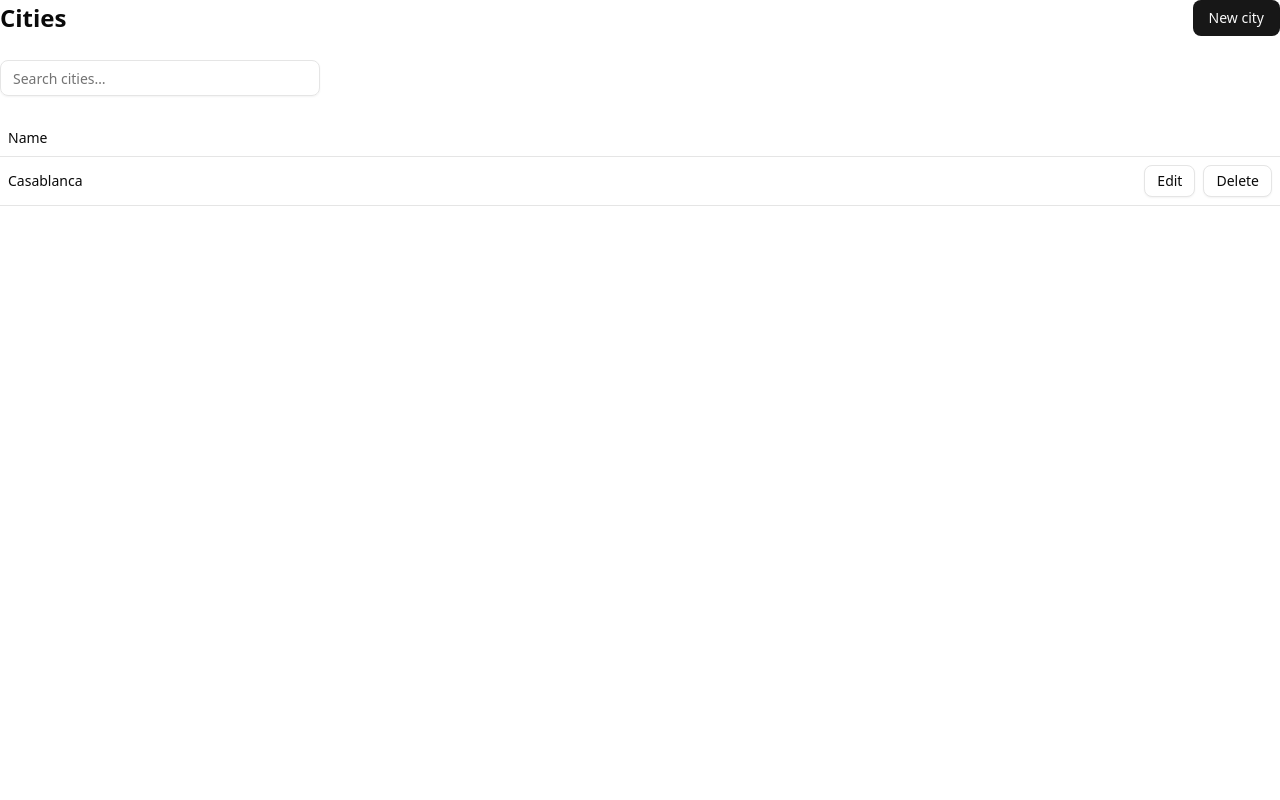
Test: create / edit / delete › seeds the edit drawer with the row being edited
Click the button with aria-label "edit casablanca": [1170, 181] box [1144,165,1196,197]
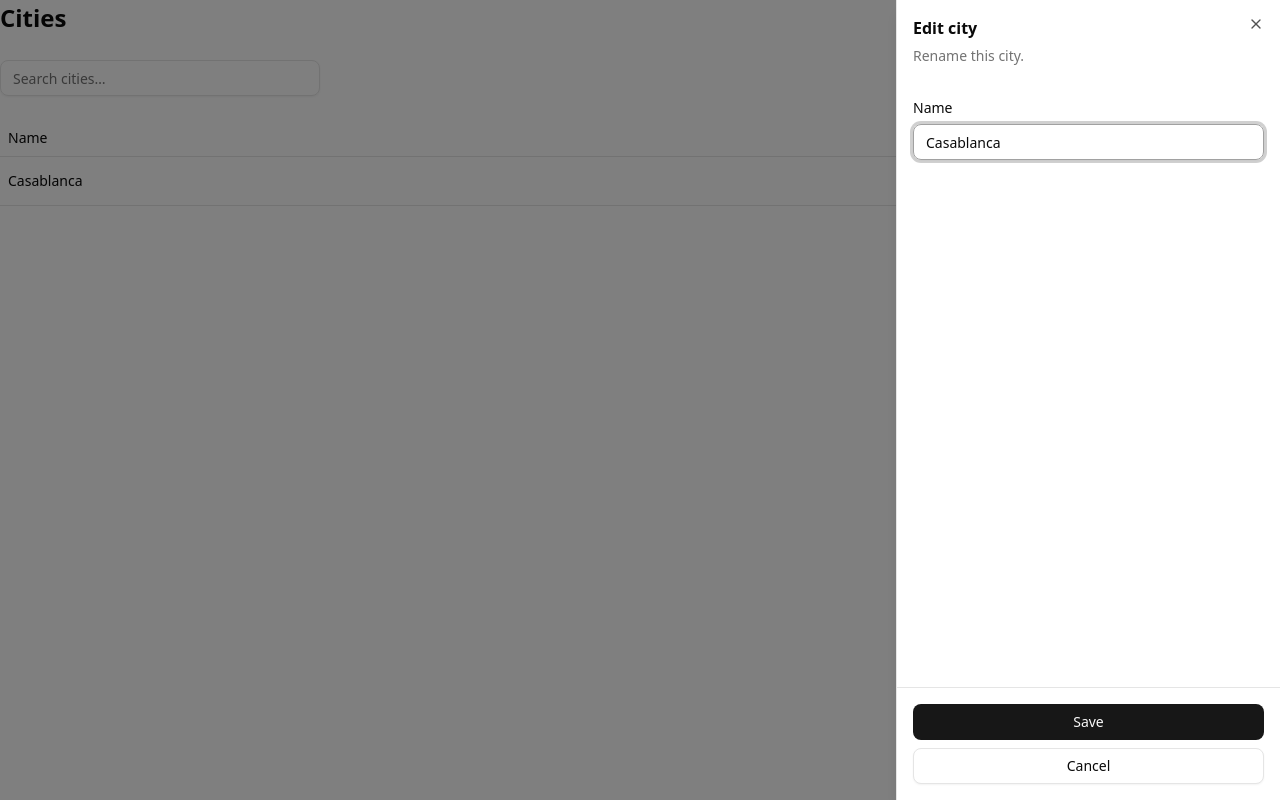
Expected: the field labelled "Name" holds "Casablanca", [913,124,1264,160]
